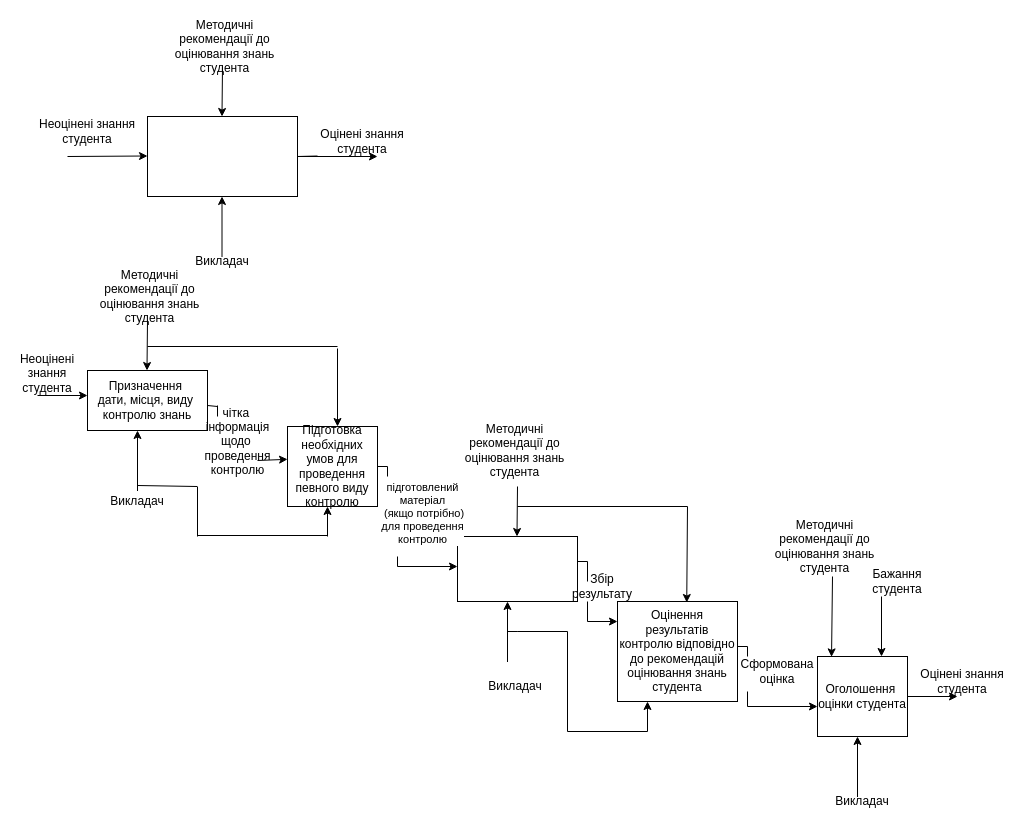
This 1034x833 diagram has some shape labels left out. Each missing label, with the centre of its shape:
"Оцінювання знань студента" belongs at (222,156).
"Проведення контролю" belongs at (517,569).
